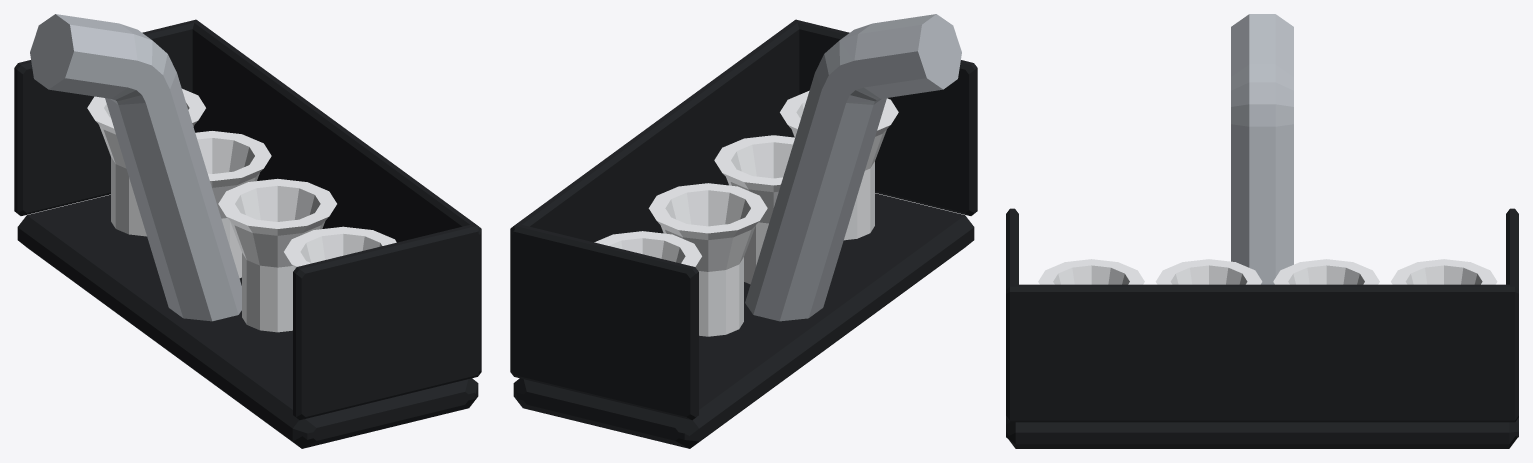
The model's file is strada_evo.glb.
3 renders of one model, left to right at view 1: azimuth 30°, elevation 25°; view 2: azimuth 150°, elevation 25°; view 3: azimuth 270°, elevation 25°, orthographic. The views are drawn at different scales.
Parts seen in each view (by area): view 1: model; view 2: model; view 3: model.
Boxes of the visible parts, bbox=[...] form: model: bbox=[14, 14, 481, 448]; model: bbox=[510, 14, 977, 448]; model: bbox=[1006, 14, 1518, 448].
Size of the model in its own units: 0.2904 by 0.3361 by 0.48.
3 materials, 1 textured.
